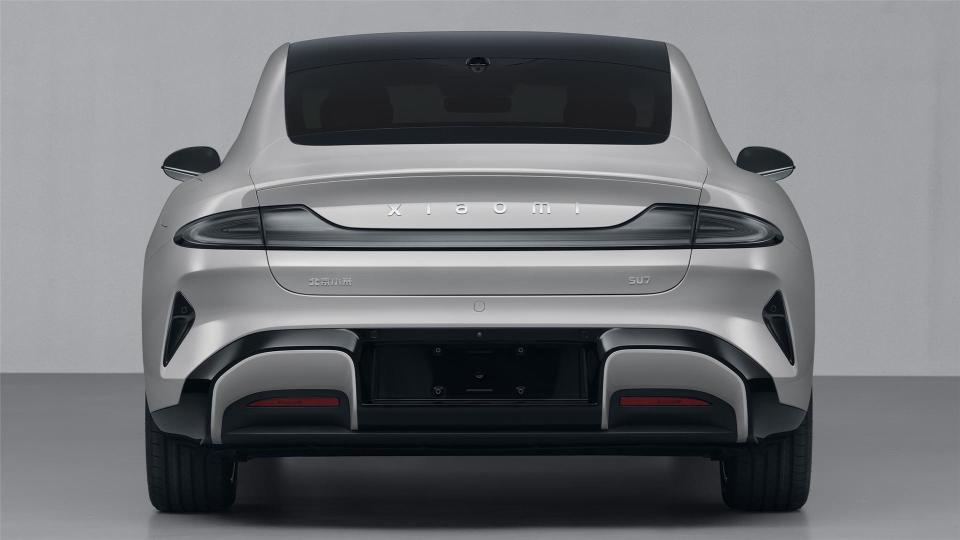su7: (134, 23, 816, 515)
